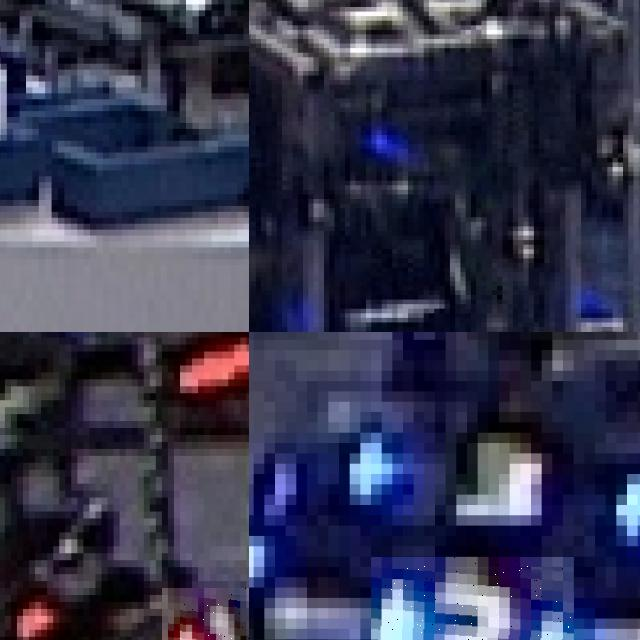B3: (371, 556, 573, 640)
R1: (0, 574, 71, 640), (161, 587, 249, 640)
